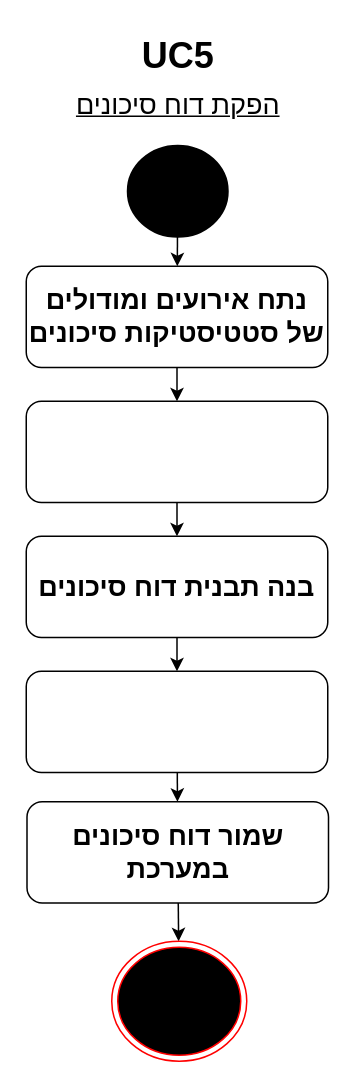
This 356x1088 diagram has some shape labels left out. The centre of each missing label's shape, as x and y in pixels:
"צור גרפים וטבלאות לפי תבנית ונתוני סיכונים" goes at point 176,721.
"שלח נתונים ליצירת דוח (תבנית לפי חוקים)" goes at point 176,451.
